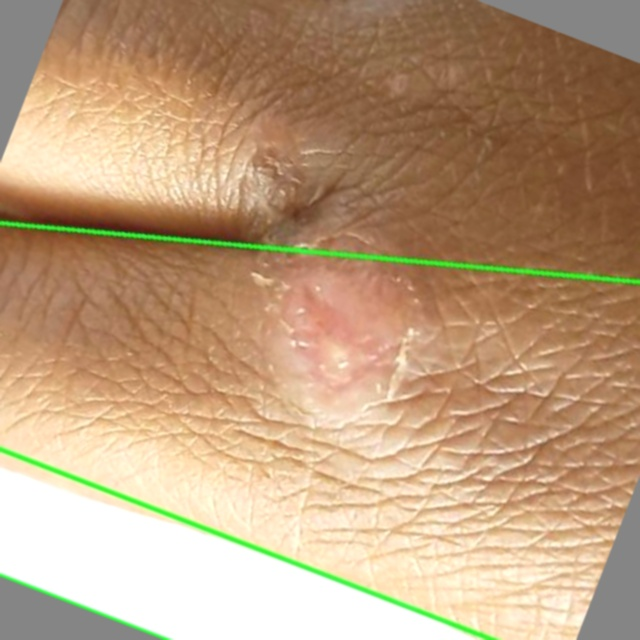Eczema: (0, 0, 639, 356)
